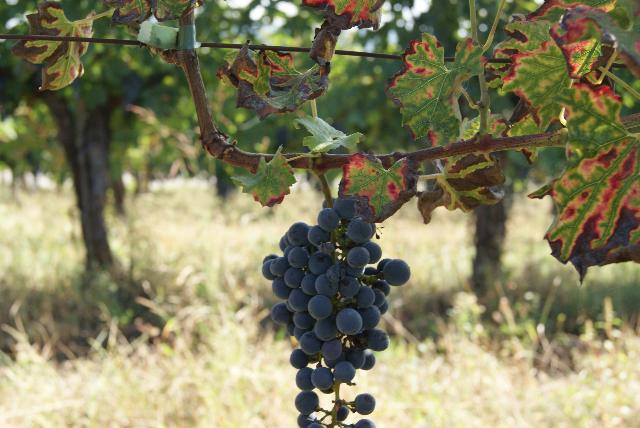grapes: (262, 191, 390, 428)
